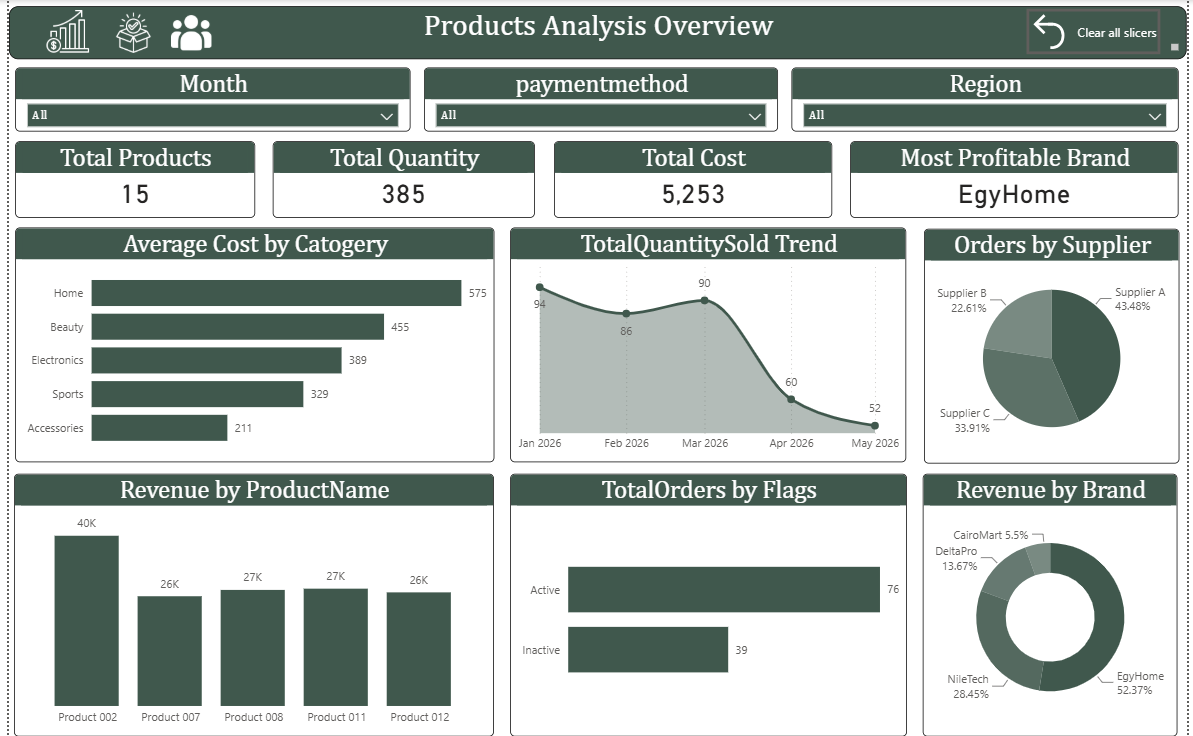

This screenshot's page, from the dashboard's own definition file:
{"tool":"powerbi","page":{"name":"products overview","canvas":[1280,800],"ordinal":1},"visuals":[{"type":"slicer","title":"paymentmethod","fields":{"Values":["TotalOrders.PaymentMethod"]},"box":[450.6,73.4,385.2,69.7],"z":0},{"type":"slicer","title":"Region","fields":{"Values":["TotalOrders.Region"]},"box":[851.1,73.4,420.7,69.7],"z":1000},{"type":"slicer","title":"Month","fields":{"Values":["TotalOrders.OrderDate.Variation.Date Hierarchy.Month"]},"box":[6.1,73.4,429.2,69.7],"z":2000},{"type":"card","title":"Total Products","fields":{"Values":["Measuress.8.TotalProducts"]},"box":[6.1,154.1,260.5,83.2],"z":3000},{"type":"card","title":"Total Quantity ","fields":{"Values":["Measuress.9.TotalQuantitySold"]},"box":[287,154.1,284.9,83.2],"z":4000},{"type":"card","title":"Total Cost","fields":{"Values":["Measuress.10.TotalCost"]},"box":[592.3,154.1,302,83.2],"z":5000},{"type":"barChart","title":"Average Cost by Catogery","fields":{"Y":["Avg(ProductMaster.Cost)"],"Category":["ProductMaster.StandardCategory"]},"box":[6.1,247,520.9,255.6],"z":6000},{"type":"lineChart","title":"TotalQuantitySold Trend","fields":{"Y":["Measuress.9.TotalQuantitySold"],"Category":["TotalOrders.OrderDate.Variation.Date Hierarchy.Year","TotalOrders.OrderDate.Variation.Date Hierarchy.Quarter","TotalOrders.OrderDate.Variation.Date Hierarchy.Month","TotalOrders.OrderDate.Variation.Date Hierarchy.Day"]},"box":[545.4,247,430.4,255.6],"z":7000},{"type":"textbox","title":"Products Analysis Overview","box":[0,6.1,1280.3,57.5],"z":8000},{"type":"actionButton","box":[1106,9.6,145.5,49.4],"z":9000},{"type":"image","box":[24.7,13.7,222.3,43.9],"z":10000},{"type":"image","box":[5.5,11,116.6,46.7],"z":11000},{"type":"image","box":[175.6,13.7,45.3,43.9],"z":12000},{"type":"clusteredColumnChart","title":"Revenue by ProductName","fields":{"Y":["Measuress.4.TotalSales"],"Category":["ProductMaster.ProductName"]},"box":[5.5,514.6,521.4,285.4],"z":13000},{"type":"pieChart","title":"Orders by Supplier","fields":{"Category":["ProductMaster.Supplier"],"Y":["Measuress.1.TotalOrders"]},"box":[994.2,248.2,277.6,255.6],"z":14000},{"type":"donutChart","title":"Revenue by Brand","fields":{"Y":["Measuress.7.Revenue"],"Category":["ProductMaster.Brand"]},"box":[993.5,514.6,277.2,285.4],"z":15000},{"type":"barChart","title":"TotalOrders by Flags","fields":{"Category":["ProductMaster.ActiveFlag"],"Y":["Measuress.1.TotalOrders"]},"box":[544.8,514.6,430.9,285.4],"z":16000},{"type":"card","title":"Most Profitable Brand ","fields":{"Values":["Measuress.Most Profitable Brand"]},"box":[914.7,154.1,357.1,83.2],"z":17000}]}

Visuals, with their boxes in screenshot pixels (x1, y1, x2, y2), scaled from the page's 1280x800 canvas onto the 1193x736 screenshot:
"paymentmethod" slicer: crop(420, 68, 779, 132)
"Region" slicer: crop(793, 68, 1185, 132)
"Month" slicer: crop(6, 68, 406, 132)
"Total Products" card: crop(6, 142, 248, 218)
"Total Quantity " card: crop(267, 142, 533, 218)
"Total Cost" card: crop(552, 142, 834, 218)
"Average Cost by Catogery" barChart: crop(6, 227, 491, 462)
"TotalQuantitySold Trend" lineChart: crop(508, 227, 909, 462)
"Products Analysis Overview" textbox: crop(0, 6, 1192, 59)
actionButton: crop(1031, 9, 1166, 54)
image: crop(23, 13, 230, 53)
image: crop(5, 10, 114, 53)
image: crop(164, 13, 206, 53)
"Revenue by ProductName" clusteredColumnChart: crop(5, 473, 491, 735)
"Orders by Supplier" pieChart: crop(927, 228, 1185, 463)
"Revenue by Brand" donutChart: crop(926, 473, 1184, 735)
"TotalOrders by Flags" barChart: crop(508, 473, 909, 735)
"Most Profitable Brand " card: crop(853, 142, 1185, 218)
